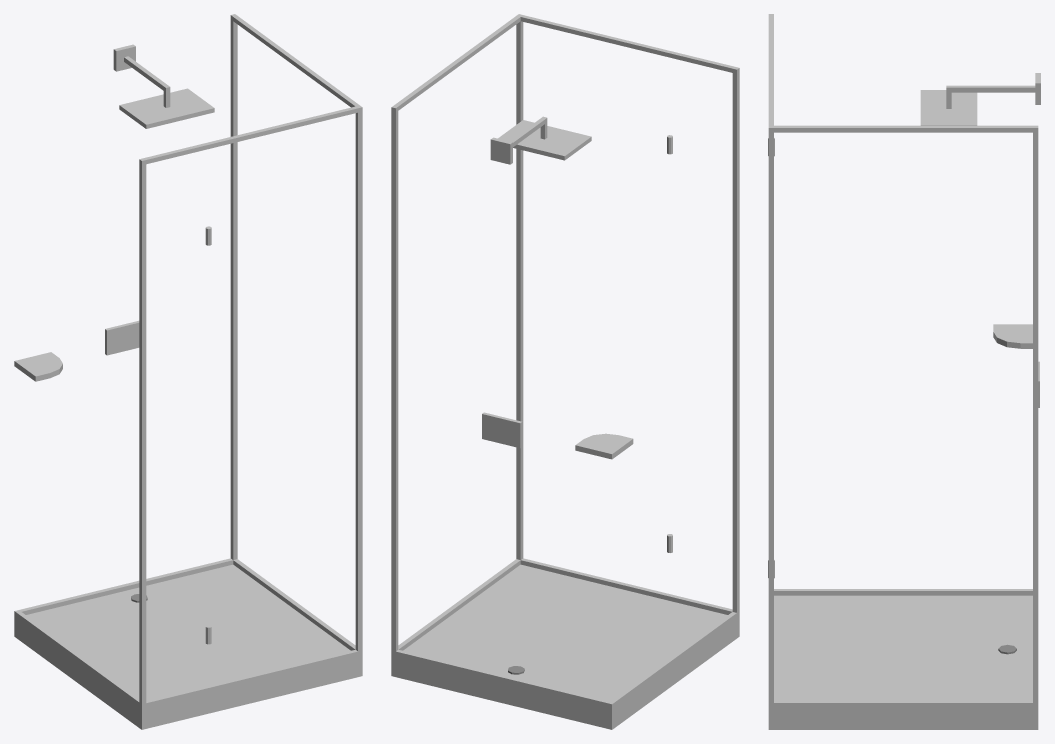
Rendered from Shower1_C1_01.fbx.
3 views of the same model, side by side, from view 1: azimuth 30°, elevation 25°; view 2: azimuth 150°, elevation 25°; view 3: azimuth 270°, elevation 25° (orthographic). The views are drawn at different scales.
Parts seen in each view (by area): view 1: Shower1_C1_01; view 2: Shower1_C1_01; view 3: Shower1_C1_01.
Part boxes in pixels (box(x1,y1,x2,y2)): Shower1_C1_01: box(14, 14, 362, 729); Shower1_C1_01: box(391, 14, 739, 729); Shower1_C1_01: box(768, 14, 1040, 729).
Bounding box in the file's own units: 90 × 222 × 91.03.
